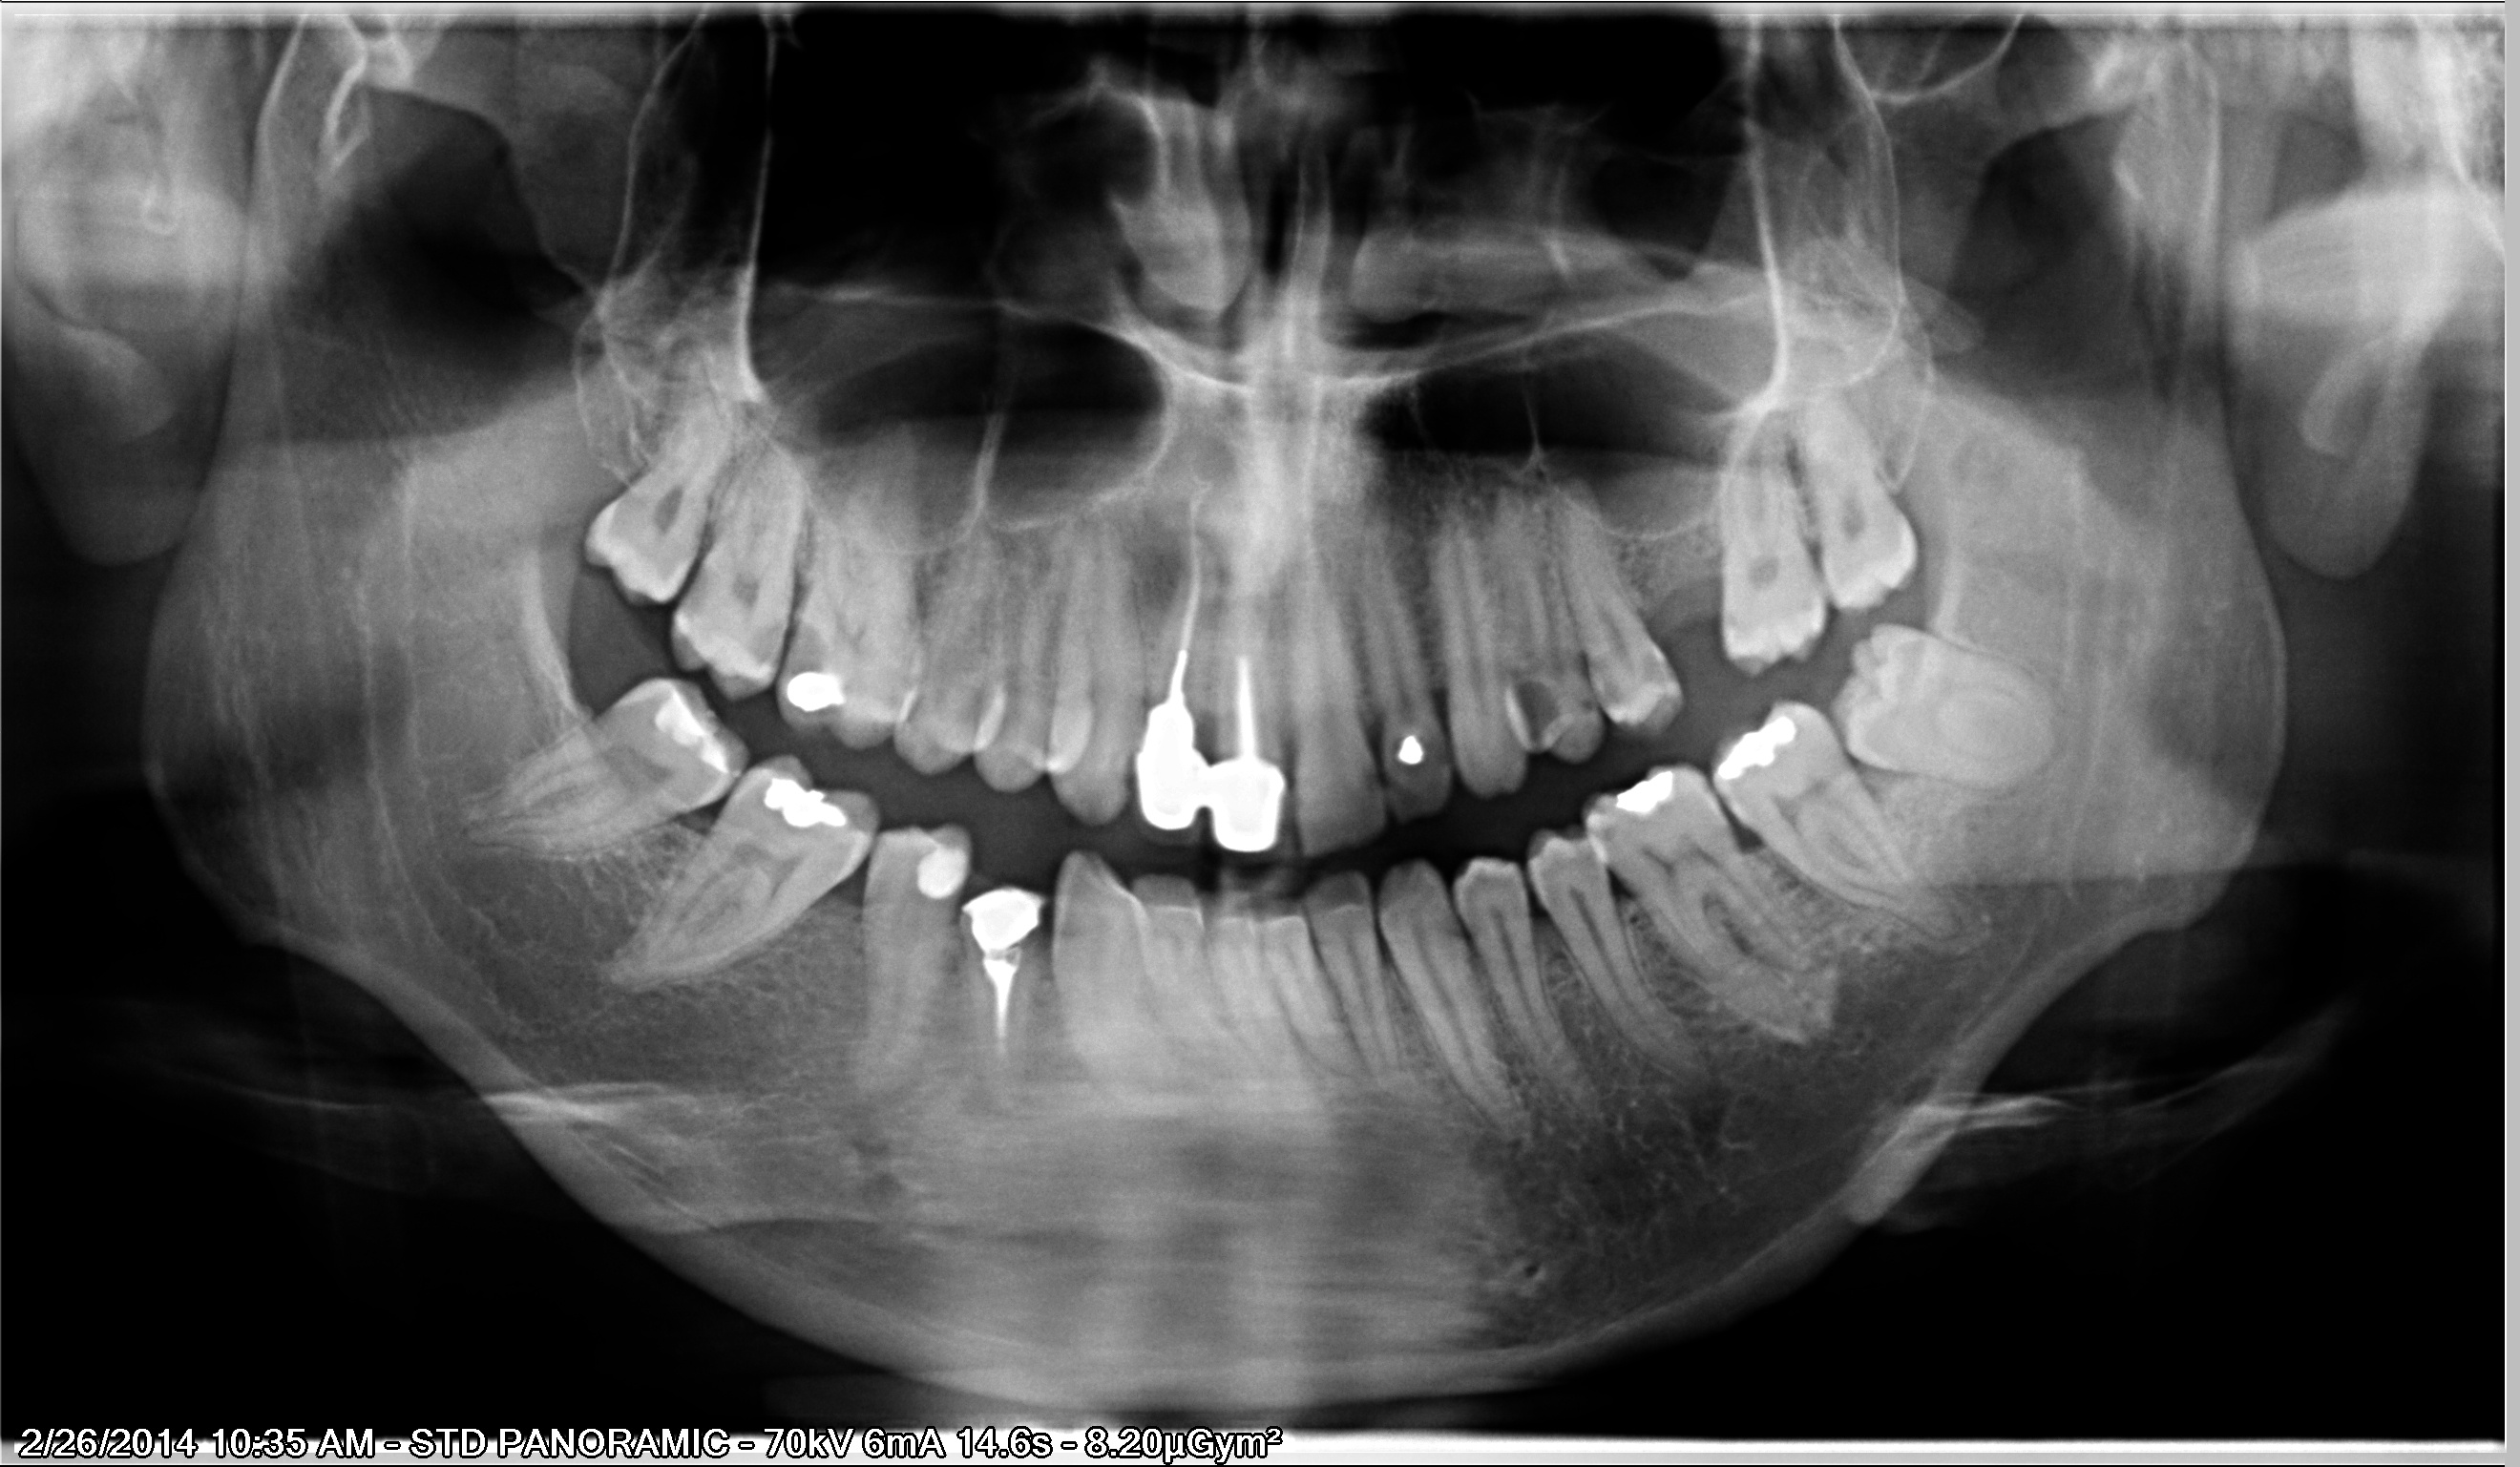CAR: (653, 548, 742, 636), (768, 601, 861, 681), (1502, 658, 1572, 756), (728, 601, 796, 683), (1631, 632, 1690, 697), (1591, 658, 1649, 725), (1339, 744, 1390, 816), (1577, 798, 1622, 863), (1563, 671, 1608, 727), (1677, 765, 1727, 807), (1423, 725, 1463, 775)
END: (1151, 499, 1219, 690), (1210, 543, 1271, 725), (973, 955, 1037, 1086)
IMT: (1809, 597, 2087, 816)
OBT: (630, 678, 749, 793), (740, 754, 875, 845), (955, 864, 1055, 957), (891, 823, 988, 913), (1708, 699, 1797, 789), (772, 658, 861, 732), (1600, 763, 1703, 826), (1390, 718, 1432, 767)
PRR: (1121, 665, 1294, 880)
